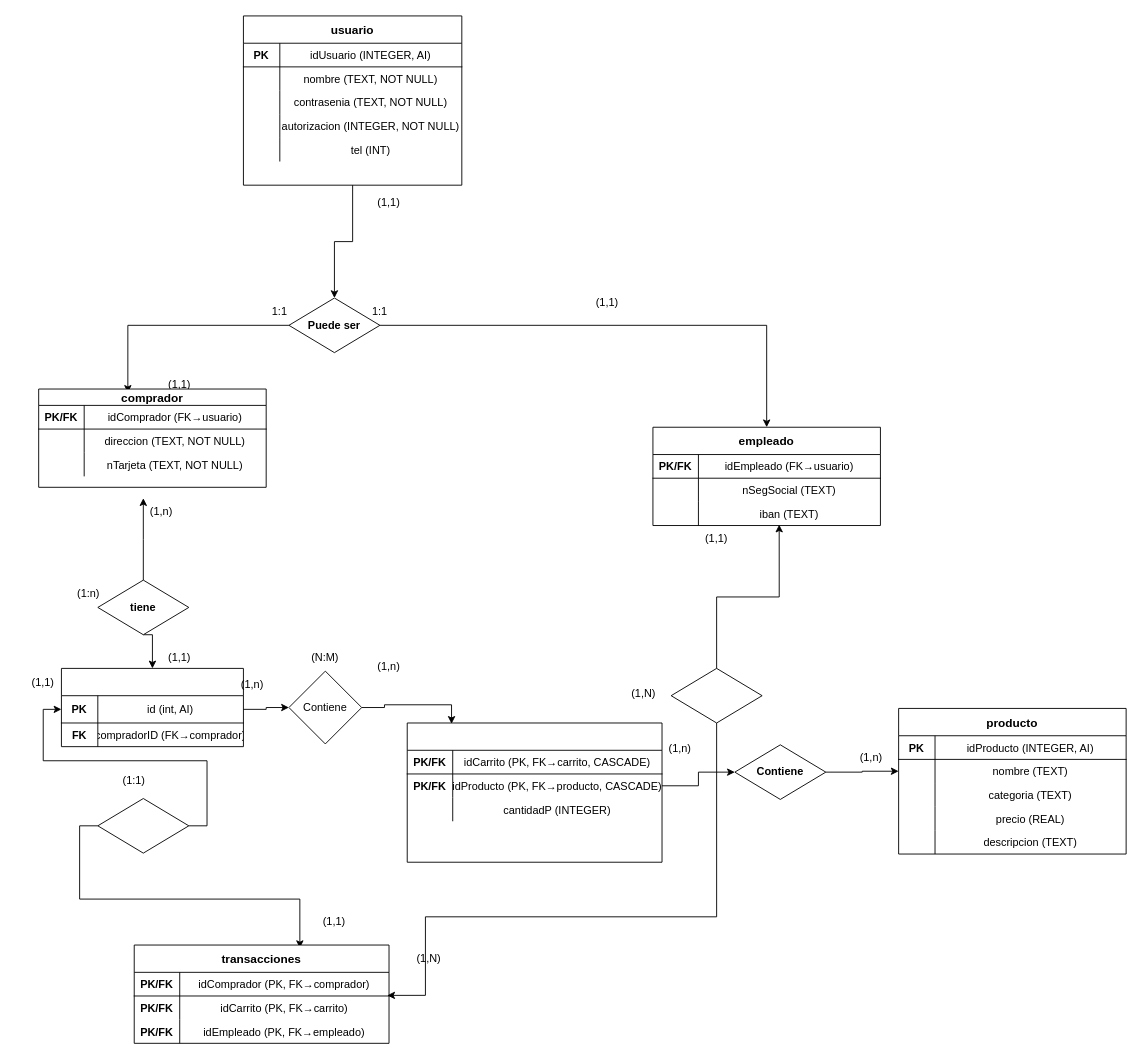
Image size: 1142x1059. Some labels were removed from this diagram. Each missing label, with the box of its shape:
carrito: (61, 667, 243, 747)
carrito_producto: (406, 722, 662, 862)
genera: (97, 798, 189, 853)
Gestiona: (670, 667, 762, 723)
